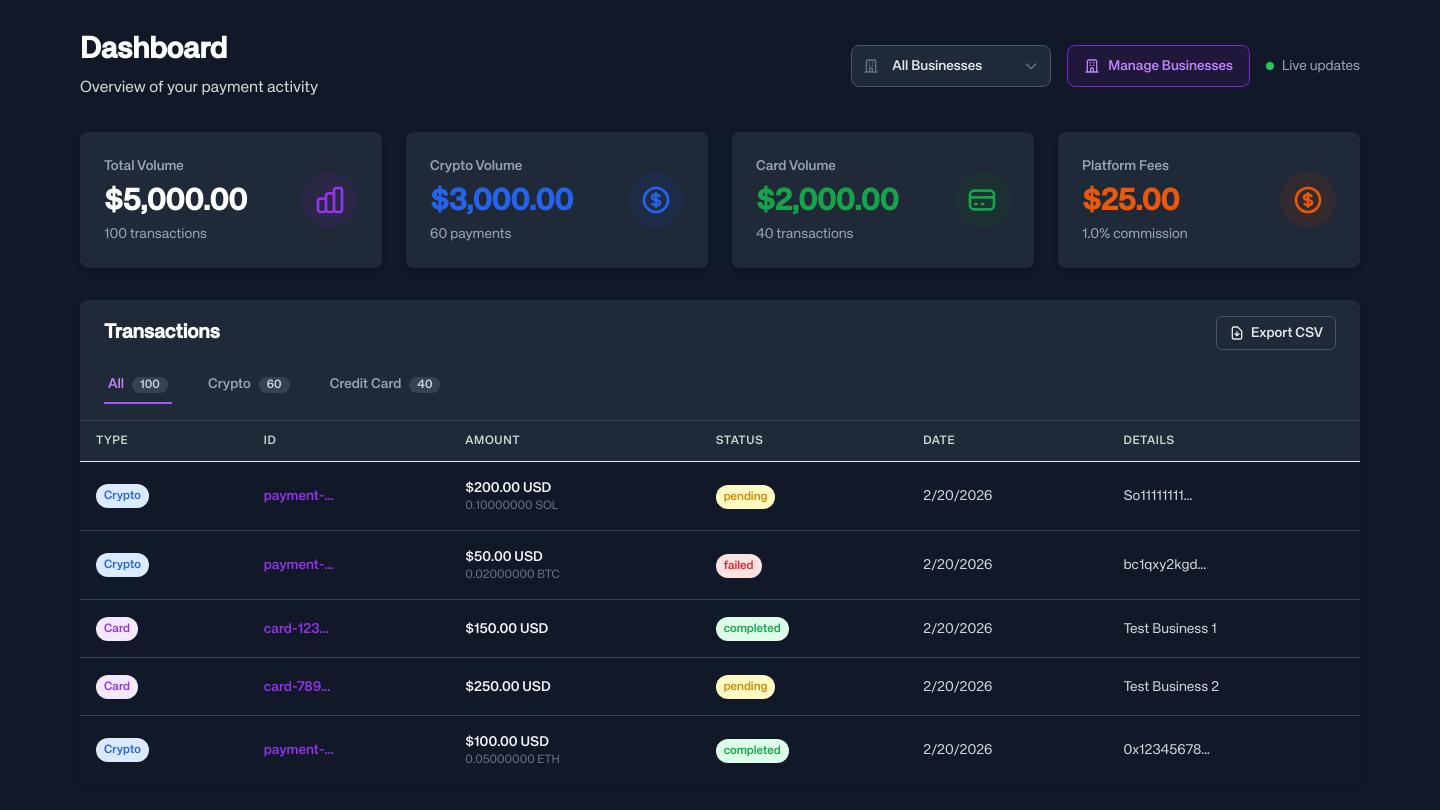
Test: DashboardPage › Tab Navigation › should switch to card tab and show card transactions only
The width and height of the screenshot is (1440, 810).
Click the button "Credit Card40": (385, 385) x1=326 y1=366 x2=444 y2=404
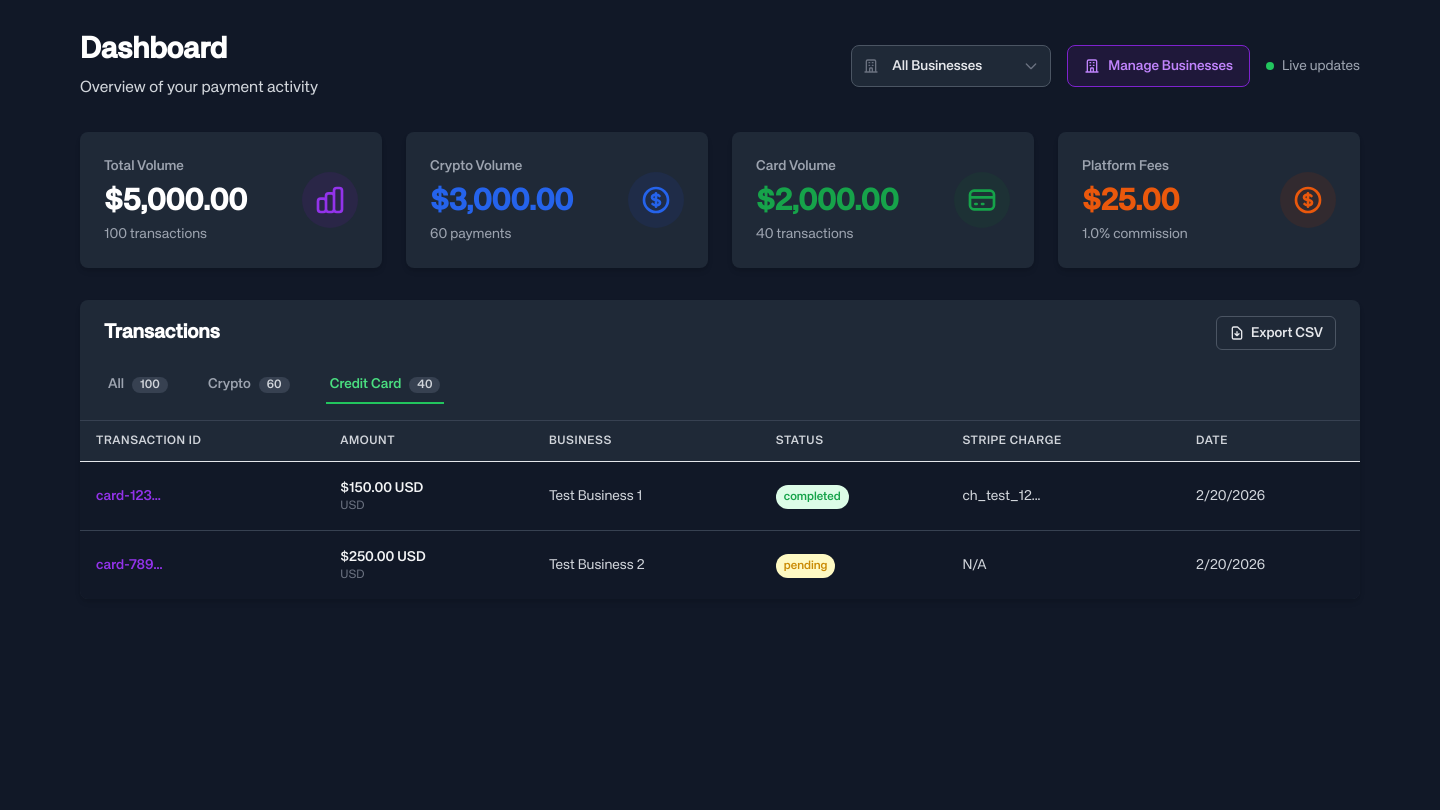
Expected: the column heading "Transaction ID" is shown, x1=80 y1=421 x2=324 y2=462
Expected: the column heading "Business" is shown, x1=533 y1=421 x2=760 y2=462
Expected: the column heading "Stripe Charge" is shown, x1=946 y1=421 x2=1180 y2=462
